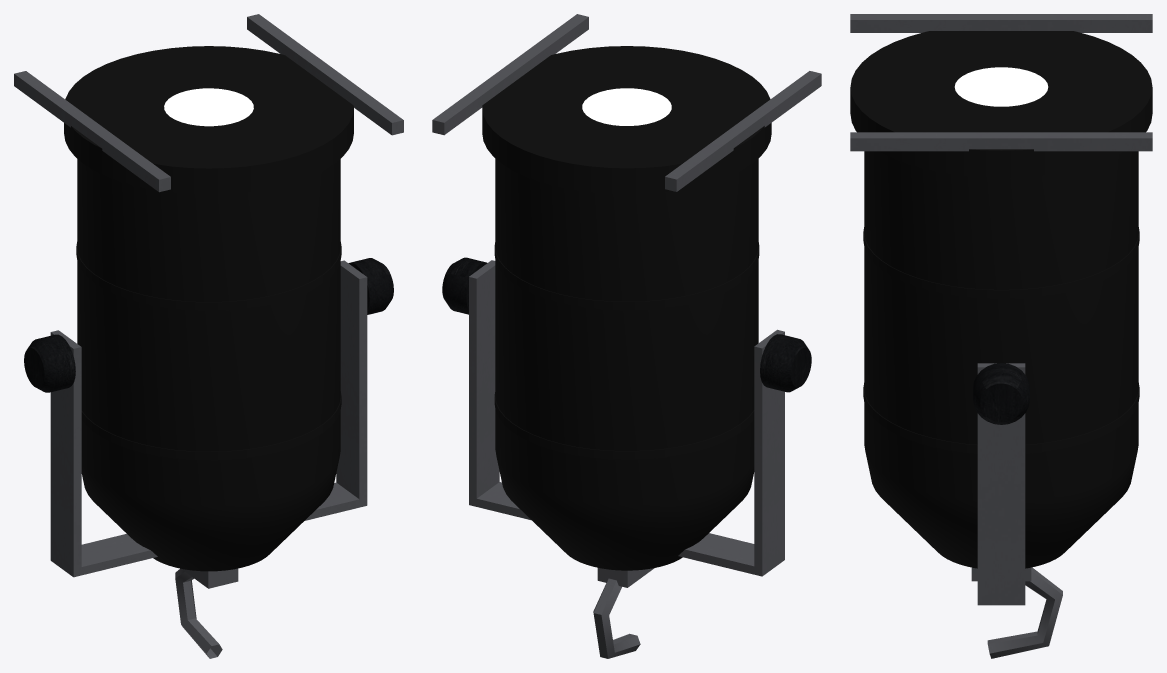
The model's file is par_64.gltf.
3 renders of one model, left to right at view 1: azimuth 30°, elevation 25°; view 2: azimuth 150°, elevation 25°; view 3: azimuth 270°, elevation 25°, orthographic. The views are drawn at different scales.
Visible parts, largest first — view 1: par_64; view 2: par_64; view 3: par_64.
Part boxes in pixels (x1,y1,x2,y2): par_64: (14, 14, 403, 658); par_64: (432, 14, 821, 658); par_64: (850, 14, 1152, 658).
Size of the model in its own units: 0.352 by 0.5368 by 0.253.
5 materials, 3 textured.
